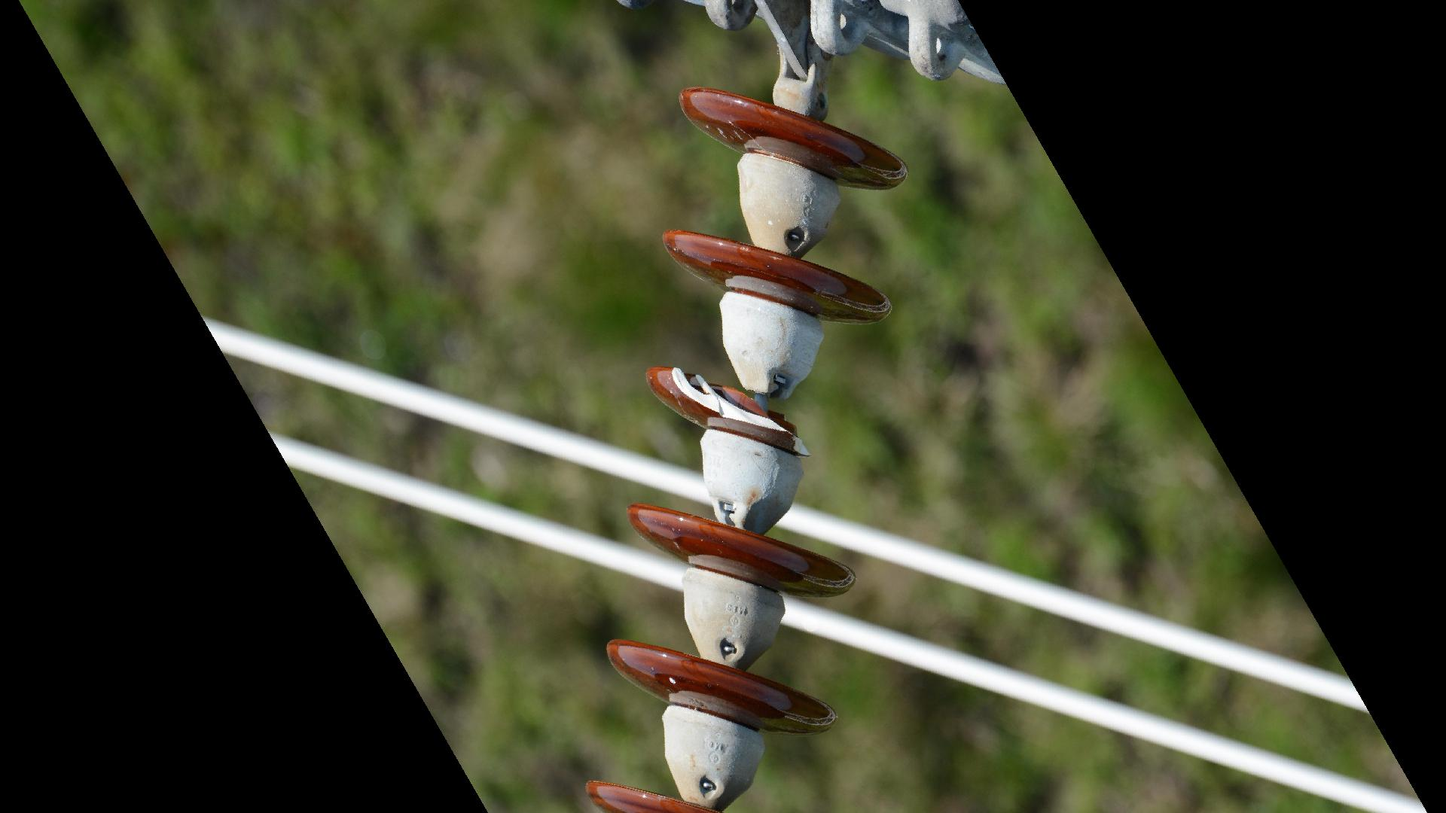insulator: (581, 78, 915, 813)
insulator_breakage: (664, 357, 816, 466)
